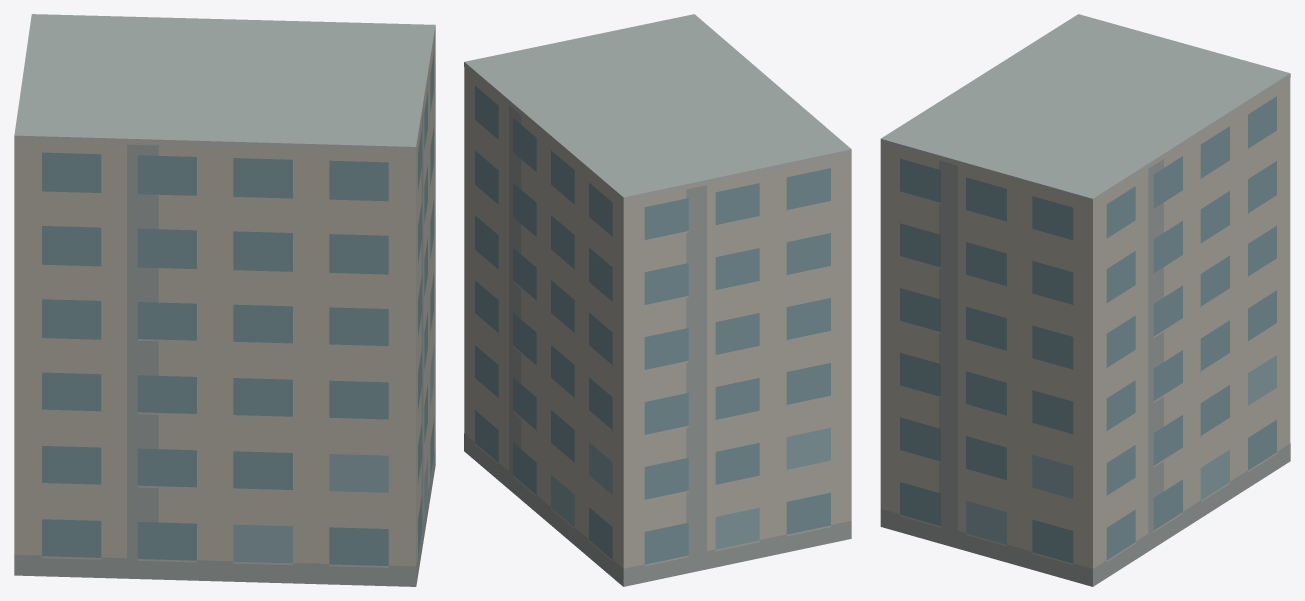
The model's file is survey-upis-32704290.glb.
The picture shows the model from 3 angles, left to right: view 1: azimuth 30°, elevation 25°; view 2: azimuth 150°, elevation 25°; view 3: azimuth 270°, elevation 25°; orthographic projection. The views are drawn at different scales.
Parts seen in each view (by area): view 1: survey-upis-32704290.tmp; view 2: survey-upis-32704290.tmp; view 3: survey-upis-32704290.tmp.
Part boxes in pixels (x1,y1,x2,y2): survey-upis-32704290.tmp: (14, 14, 435, 586); survey-upis-32704290.tmp: (464, 14, 851, 586); survey-upis-32704290.tmp: (880, 14, 1290, 586).
Size of the model in its own units: 18.7 by 18.3 by 17.52.
